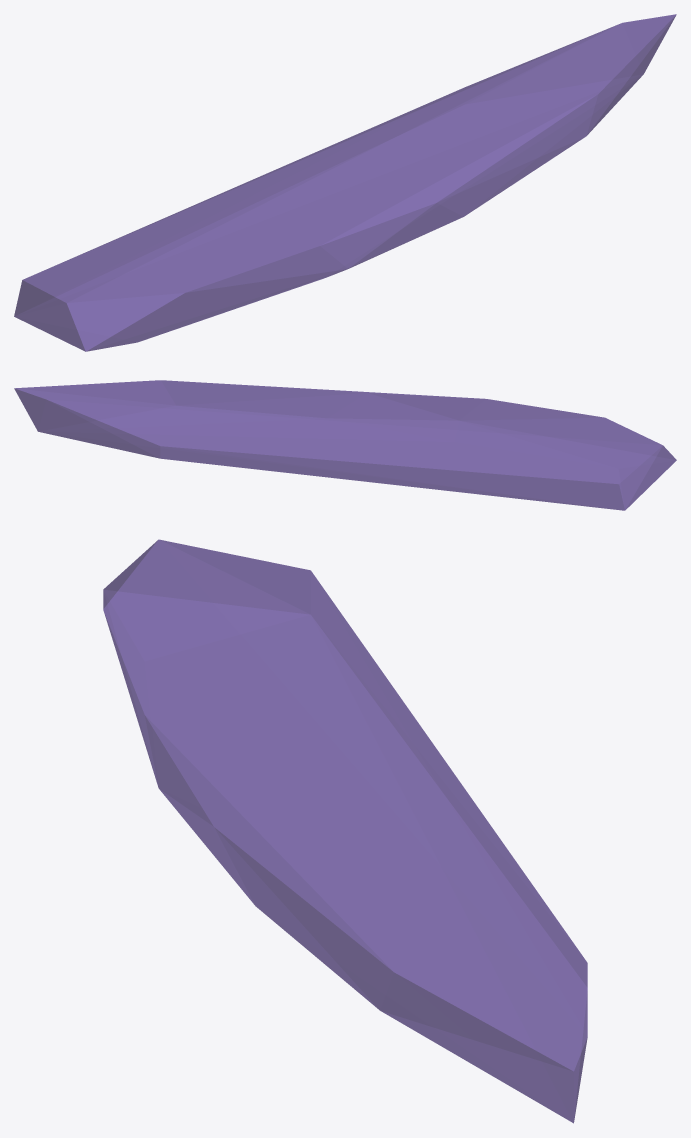
3 renders of one model, top to bottom at view 1: azimuth 30°, elevation 25°; view 2: azimuth 150°, elevation 25°; view 3: azimuth 270°, elevation 25°, orthographic. The views are drawn at different scales.
Parts seen in each view (by area): view 1: Shape_IndexedFaceSet.012_Shape_IndexedFaceSet.3397; view 2: Shape_IndexedFaceSet.012_Shape_IndexedFaceSet.3397; view 3: Shape_IndexedFaceSet.012_Shape_IndexedFaceSet.3397.
Part boxes in pixels (x1=…): Shape_IndexedFaceSet.012_Shape_IndexedFaceSet.3397: x1=14, y1=14, x2=676, y2=351; Shape_IndexedFaceSet.012_Shape_IndexedFaceSet.3397: x1=14, y1=380, x2=676, y2=510; Shape_IndexedFaceSet.012_Shape_IndexedFaceSet.3397: x1=103, y1=539, x2=587, y2=1123.
Bounding box in the file's own units: 0.1076 × 0.0071 × 0.0414.
